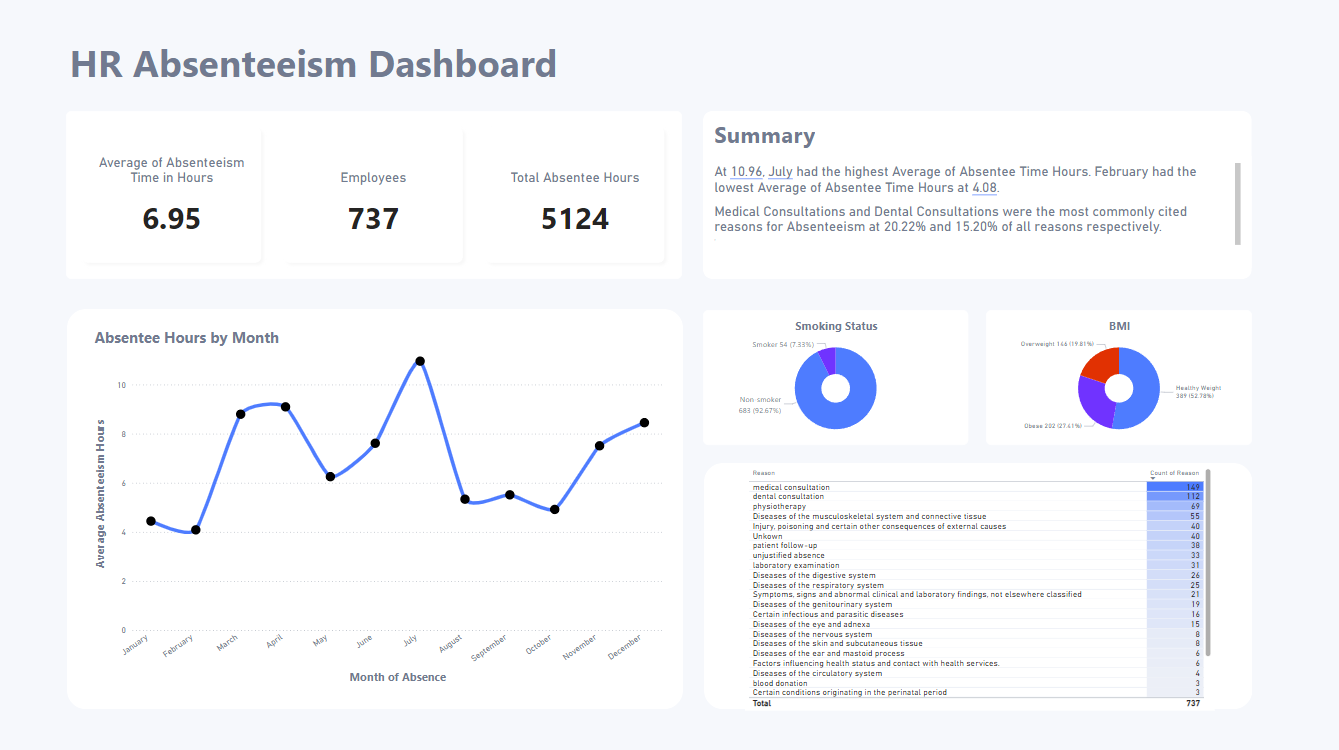

Layout of this report page (visuals, bound fields, positions):
{"tool":"powerbi","page":{"name":"Page 1","canvas":[1920,1080],"ordinal":0},"visuals":[{"type":"cardVisual","title":"What is the Main KPI?","fields":{"Data":["Avg(Query1.Absenteeism_time_in_hours)","CountNonNull(Query1.Absenteeism_time_in_hours)","Sum(Query1.Absenteeism_time_in_hours)1"]},"box":[96,160,880,240],"z":0},{"type":"shape","box":[1006.7,663.3,783.3,351.7],"z":0,"group":"g3"},{"type":"textbox","box":[96,48,720,96],"z":1000},{"type":"tableEx","fields":{"Values":["Query1.Reason","CountNonNull(Query1.Reason)"]},"box":[1065.7,665.8,671.4,351.4],"z":1000,"group":"g3"},{"type":"donutChart","title":"BMI","fields":{"Category":["Query1.BMI_Category"],"Y":["CountNonNull(Query1.BMI_Category)"]},"box":[1410,443.6,380,192.7],"z":2000},{"type":"group","id":"g1","title":"Group 1","box":[1006,160,784,240],"z":3000},{"type":"donutChart","title":"Smoking Status","fields":{"Y":["CountNonNull(Query1.Smoking_Status)"],"Category":["Query1.Smoking_Status"]},"box":[1006.4,443.6,379.1,192.7],"z":4000},{"type":"group","id":"g2","title":"Group 2","box":[96.7,443.3,880,571.7],"z":5000},{"type":"shape","box":[96.7,443.3,880,571.7],"z":6000,"group":"g2"},{"type":"group","id":"g3","title":"Group 3","box":[1006.7,663.3,783.3,354],"z":6000},{"type":"lineChart","title":"Absentee Hours by Month","fields":{"Y":["Avg(Query1.Absenteeism_time_in_hours)"],"Category":["Query1.Month_Names"]},"box":[130.9,469.1,821.2,515],"z":6500,"group":"g2"},{"type":"shape","box":[1006,160,784,240],"z":8001,"group":"g1"},{"type":"textbox","title":"Summary","box":[1006,224,784,160],"z":8501,"group":"g1"}]}

Visuals, with their boxes in screenshot pixels (x1, y1, x2, y2), scaled from the page's 1920x1080 canvas onto the 1339x750 screenshot:
"What is the Main KPI?" cardVisual: locate(67, 111, 681, 278)
shape: locate(702, 461, 1248, 705)
textbox: locate(67, 33, 569, 100)
tableEx - Query1.Reason x CountNonNull(Query1.Reason): locate(743, 462, 1211, 706)
"BMI" donutChart: locate(983, 308, 1248, 442)
"Group 1" group: locate(702, 111, 1248, 278)
"Smoking Status" donutChart: locate(702, 308, 966, 442)
"Group 2" group: locate(67, 308, 681, 705)
shape: locate(67, 308, 681, 705)
"Group 3" group: locate(702, 461, 1248, 706)
"Absentee Hours by Month" lineChart: locate(91, 326, 664, 683)
shape: locate(702, 111, 1248, 278)
"Summary" textbox: locate(702, 156, 1248, 267)
